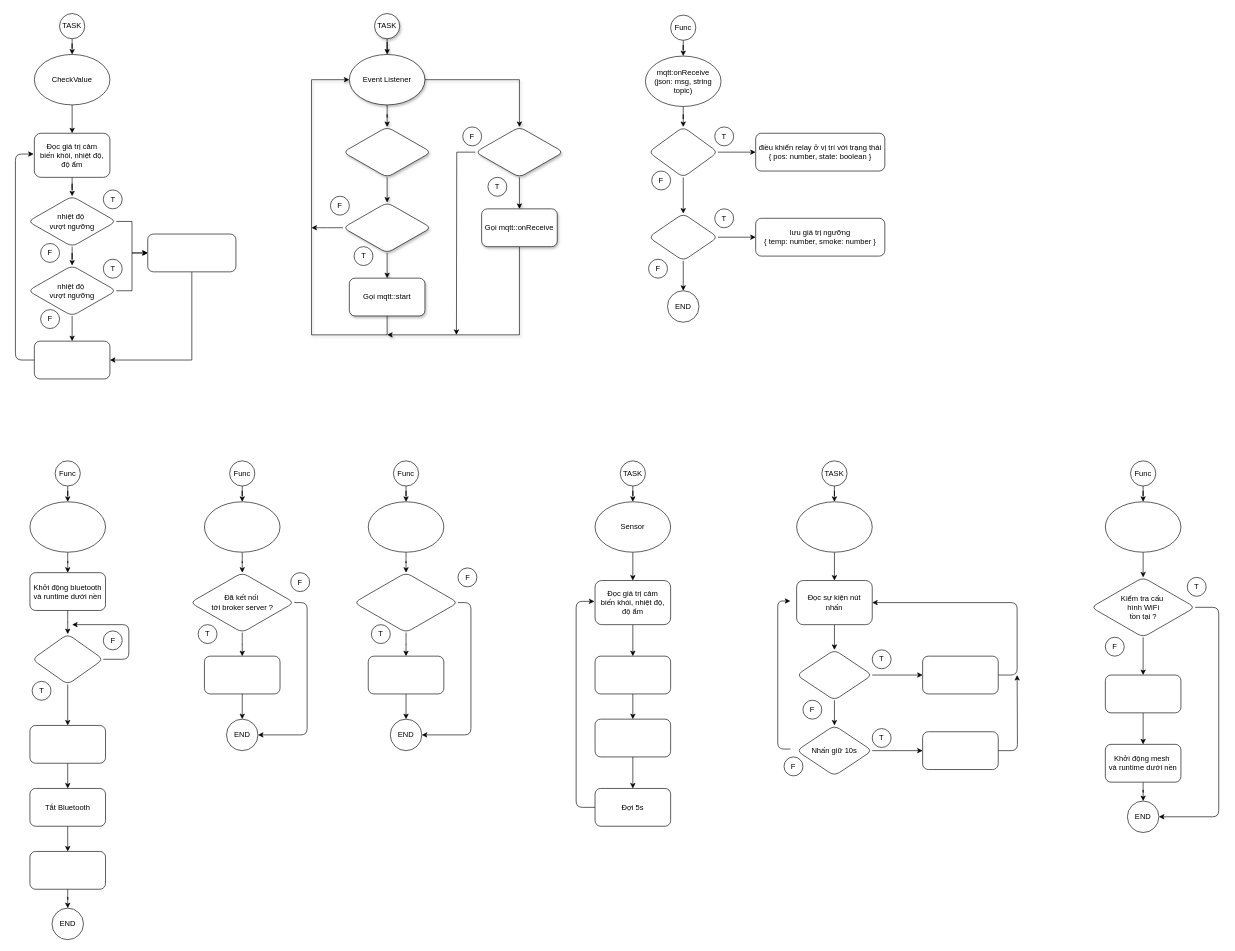
The diagram is 1235 pixels wide and 951 high, and some of its shapes have lost their labels. The centre of each missing label's shape, as x and y in pixels:
"set_threshold" topic ?: [683,237]
bluetooth::start: [67,526]
Button: [834,526]
Có kết nối Internet: [387,228]
Cấu hình thông số mesh cơ bản: [1143,693]
Dữ liệu từ server: [519,153]
Gọi hàm bluetooth::start: [960,675]
Gọi hàm mqtt::sendMessage: [632,738]
Gọi mesh::start: [67,870]
Gửi dữ liệu JSON đến broker: [242,675]
Kiểm tra cấu hình server tồn tại ?: [405,602]
Lưu trữ cấu hình WiFi: [67,744]
mesh::start: [1143,526]
mqtt:sendMessage (json: msg): [242,526]
mqtt:start: [406,526]
Mạng mesh được thiết lập: [387,153]
nhấn double: [834,674]
Nhận được dữ liệu ?: [67,658]
Phát tín hiệu buzzer: [191,252]
Thiết lập kết nối tới Broker: [406,675]
topic "control" ?: [683,151]
Tạo dữ liệu JSON: [632,675]
Xóa cấu hình khởi động lại module: [960,750]
Đợi 2s: [72,360]
